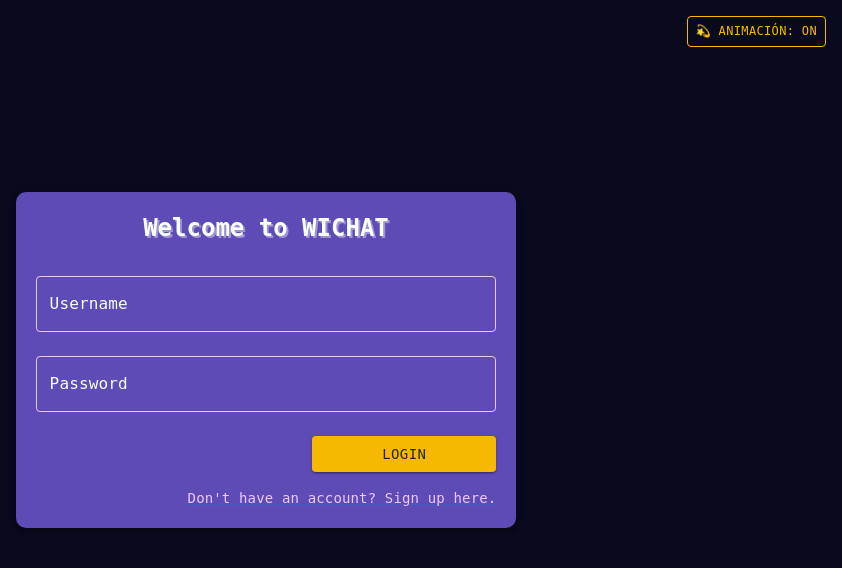
Test: Login component › should show validation errors
Click the button "Login". click: (404,454)
box: x1=312 y1=436 x2=496 y2=472
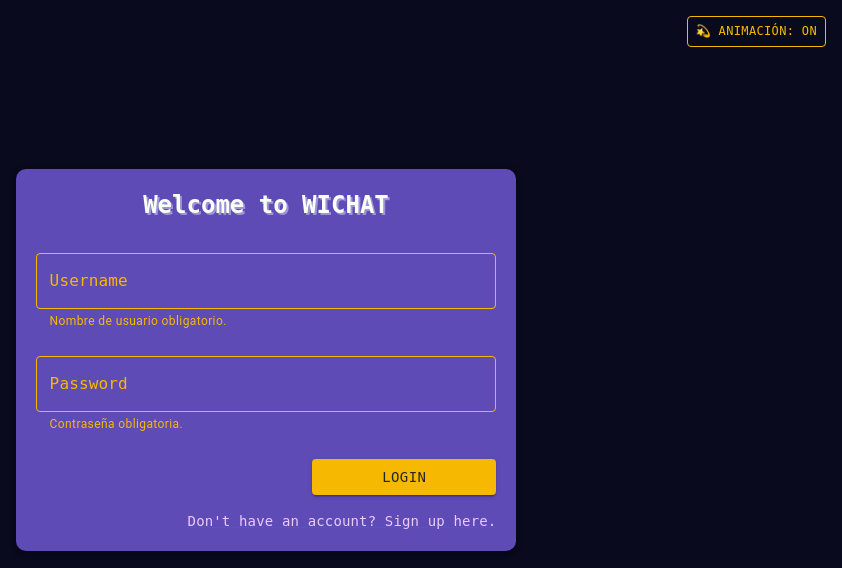
Expected: the text "Nombre de usuario obligatorio." is shown, x1=50 y1=314 x2=227 y2=328
Expected: the text "Contraseña obligatoria." is shown, x1=50 y1=417 x2=183 y2=431
